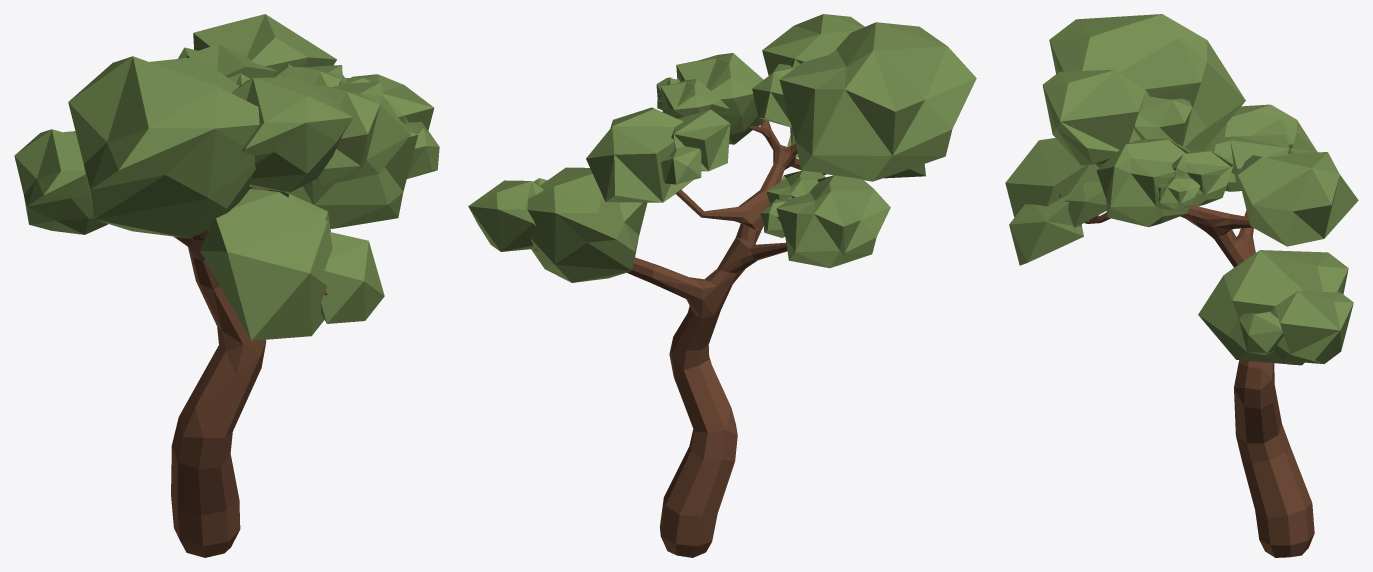
The model's file is tree.fbx.
3 views of the same model, side by side, from view 1: azimuth 30°, elevation 25°; view 2: azimuth 150°, elevation 25°; view 3: azimuth 270°, elevation 25° (orthographic). The views are drawn at different scales.
Visible parts, largest first — view 1: Icosphere, Icosphere.001, Cube, Icosphere.005, Icosphere.002, Icosphere.003, Icosphere.004; view 2: Icosphere, Cube, Icosphere.005, Icosphere.004, Icosphere.003, Icosphere.002; view 3: Icosphere, Icosphere.005, Cube, Icosphere.004, Icosphere.002, Icosphere.001, Icosphere.003.
Boxes of the visible parts, x1,y1,x2,y2 form: Icosphere: (68,56,353,238); Icosphere.001: (200,189,384,340); Cube: (171,187,327,557); Icosphere.005: (268,74,439,228); Icosphere.002: (273,64,410,186); Icosphere.003: (14,129,107,234); Icosphere.004: (178,14,336,78); Icosphere: (752,14,976,181); Cube: (534,119,826,557); Icosphere.005: (468,167,647,282); Icosphere.004: (586,107,730,202); Icosphere.003: (760,170,890,268); Icosphere.002: (656,53,763,144); Icosphere: (1042,14,1245,165); Icosphere.005: (1198,250,1353,365); Cube: (1059,194,1314,557); Icosphere.004: (1230,135,1358,246); Icosphere.002: (1096,138,1233,227); Icosphere.001: (1005,138,1106,265); Icosphere.003: (1204,104,1316,191).
Bounding box in the file's own units: 993 × 1223 × 818.
